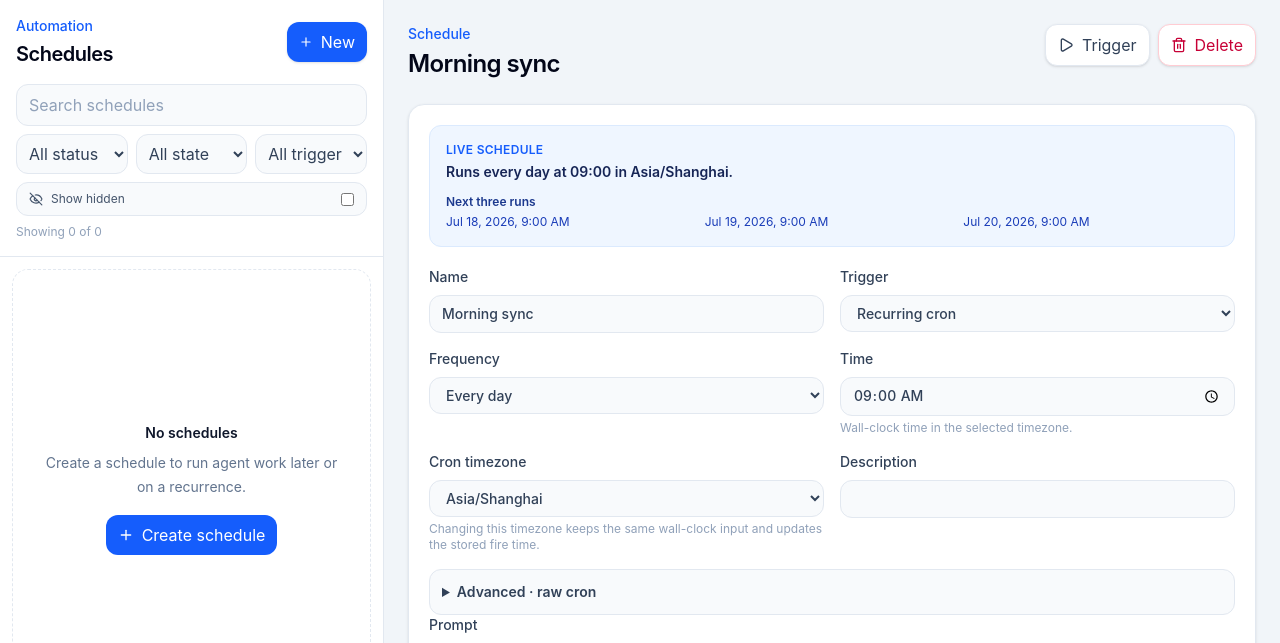
Test: SchedulesPage direct-detail refresh › preserves dirty edits and reports a conflict for a newer detail version
Replace the text in the field labelled "Name" with "Unsaved local name" at (626, 314), box [429,295,824,333]
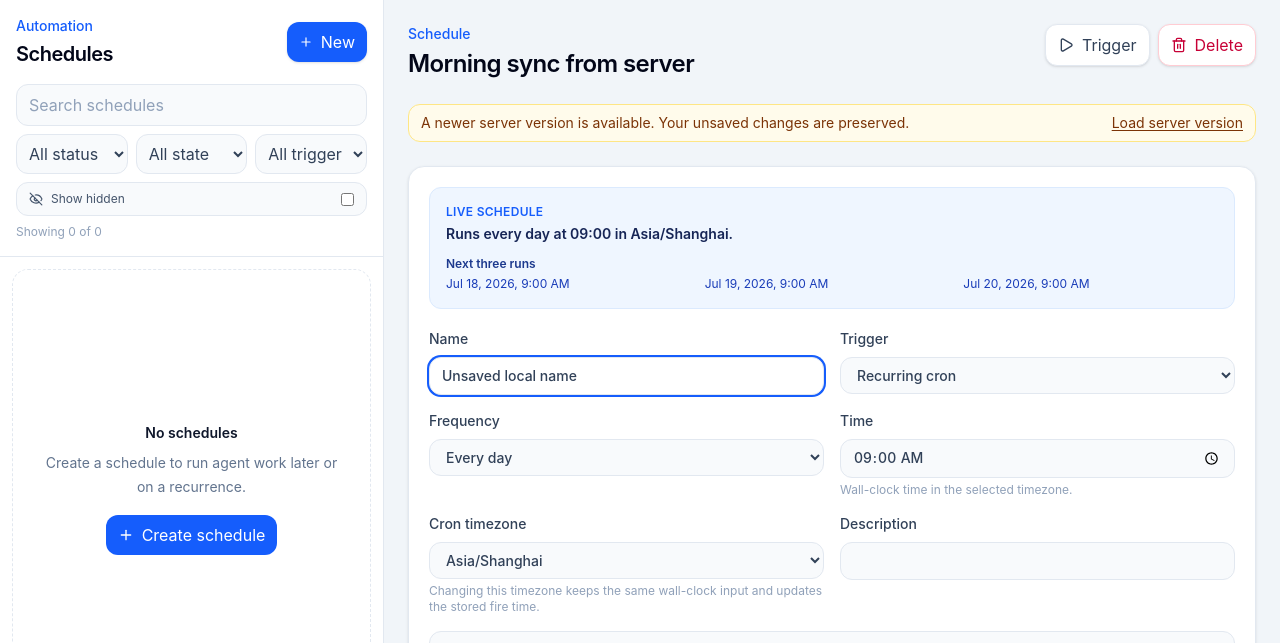
Expected: the text "A newer server version is available. Your unsaved changes are preserved." is shown, [421,113,909,133]
